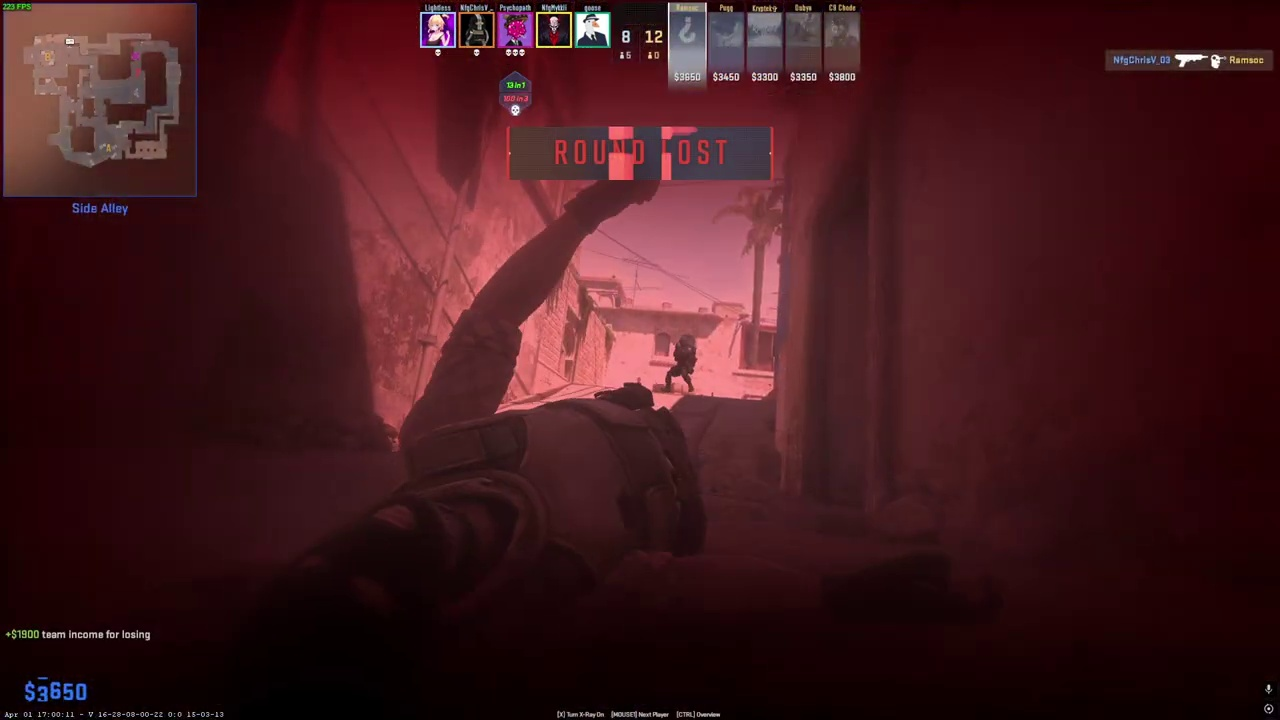CT: (667, 335, 697, 392)
